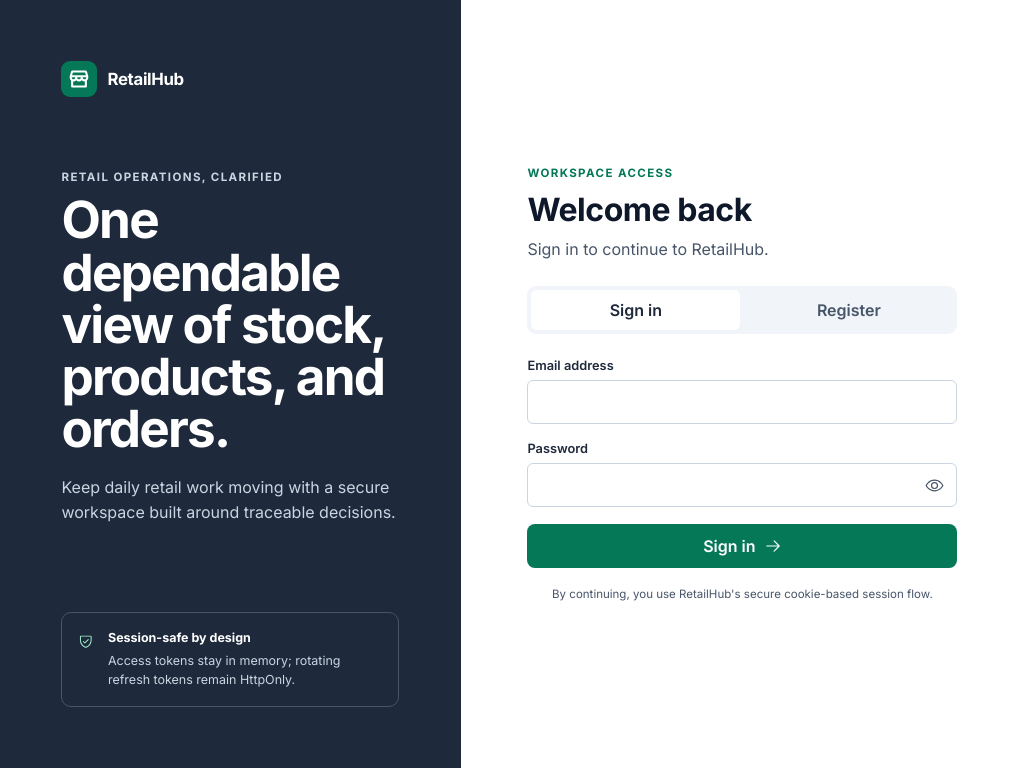
Scenario: LoginPage › supports switching to account registration
Click the button "Register" at (849, 310), box [744,290,953,330]
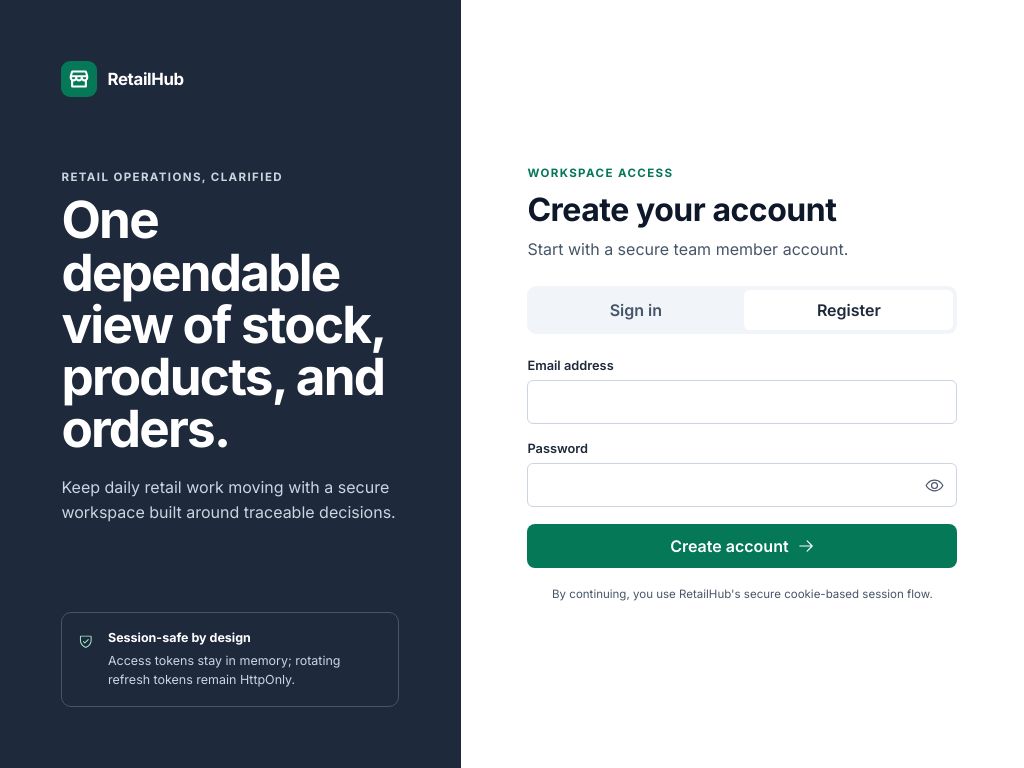
Check: the heading "Create your account" is shown, box [527,190,836,229]
